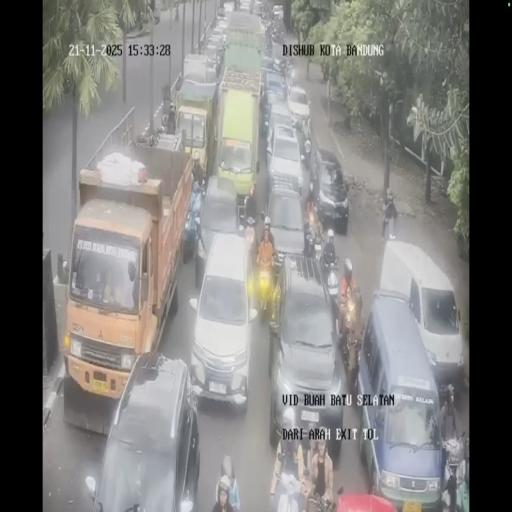3: (212, 70, 262, 208), (172, 75, 218, 180), (222, 8, 264, 82)
car: (356, 294, 444, 506), (90, 352, 200, 508), (268, 259, 344, 451), (195, 174, 245, 284), (264, 186, 305, 266), (312, 148, 350, 232), (266, 117, 304, 197), (261, 68, 287, 122), (286, 84, 310, 129), (202, 42, 224, 76), (260, 50, 276, 74), (216, 3, 228, 20), (272, 4, 284, 20), (239, 0, 252, 13), (252, 0, 263, 15)
truck: (255, 256, 278, 321), (324, 262, 342, 322), (237, 190, 255, 230), (160, 94, 175, 130), (311, 230, 326, 262)
